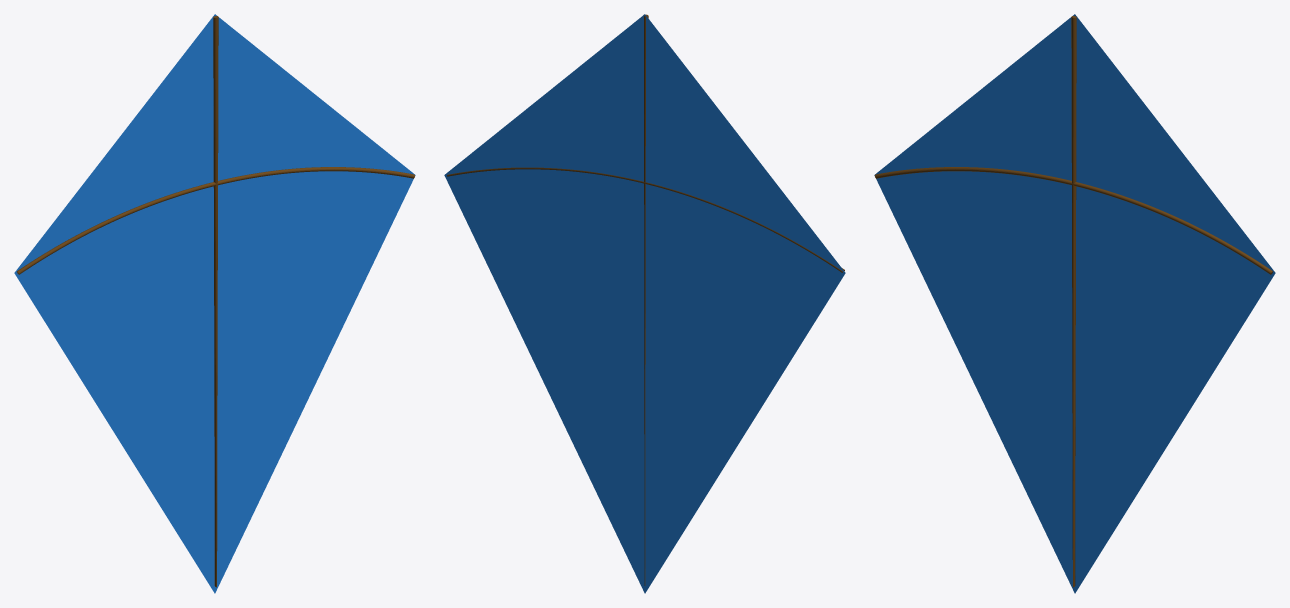
Rendered from Layang_Layang.fbx.
3 views of the same model, side by side, from view 1: azimuth 30°, elevation 25°; view 2: azimuth 150°, elevation 25°; view 3: azimuth 330°, elevation 25° (orthographic).
Parts seen in each view (by area): view 1: Plane, Cylinder.001; view 2: Plane, Cylinder.001; view 3: Plane, Cylinder.001.
Boxes of the visible parts, x1,y1,x2,y2 form: Plane: [14, 14, 415, 593]; Cylinder.001: [17, 16, 414, 587]; Plane: [444, 14, 845, 593]; Cylinder.001: [447, 14, 844, 585]; Plane: [874, 14, 1275, 593]; Cylinder.001: [875, 16, 1272, 587].
Bounding box in the file's own units: 3417 × 4718 × 31.47.
